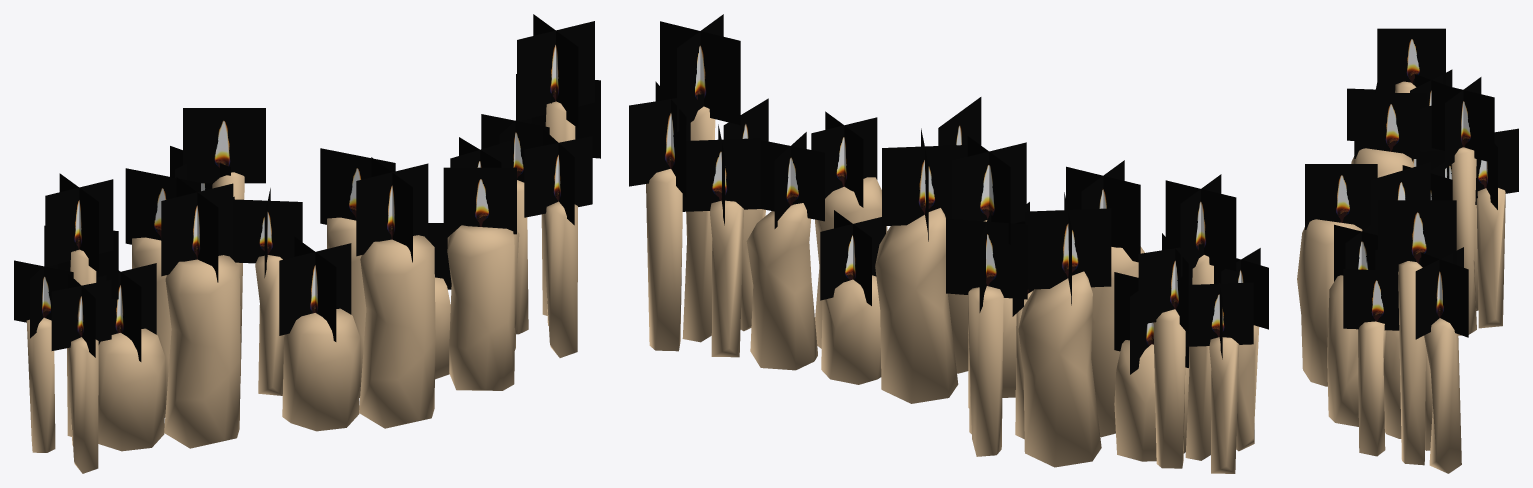
The model's file is SM_candle_set_05.fbx.
3 renders of one model, left to right at view 1: azimuth 30°, elevation 25°; view 2: azimuth 150°, elevation 25°; view 3: azimuth 270°, elevation 25°, orthographic. The views are drawn at different scales.
Visible parts, largest first — view 1: Candles_003; view 2: Candles_003; view 3: Candles_003.
Boxes of the visible parts, <box> form: Candles_003: <box>14,14,600,473</box>; Candles_003: <box>629,14,1268,473</box>; Candles_003: <box>1297,28,1518,473</box>.
Size of the model in its own units: 44.43 by 22.06 by 17.03.
